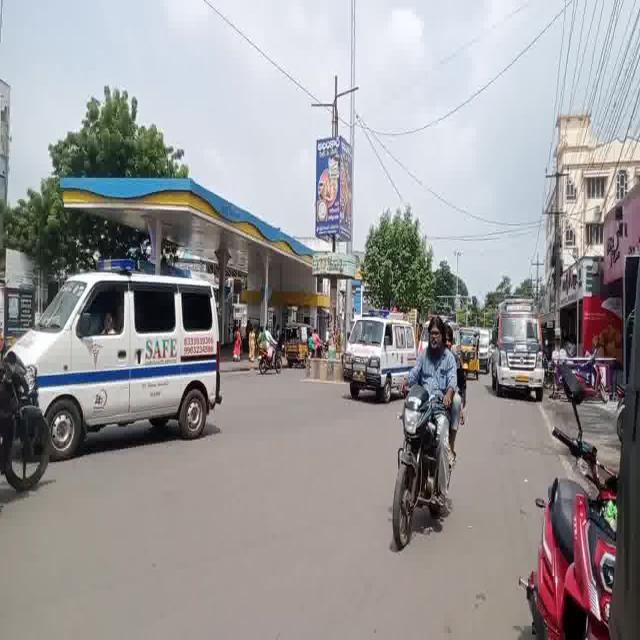ambulance: (21, 252, 220, 445), (492, 292, 552, 393), (346, 316, 416, 387)
